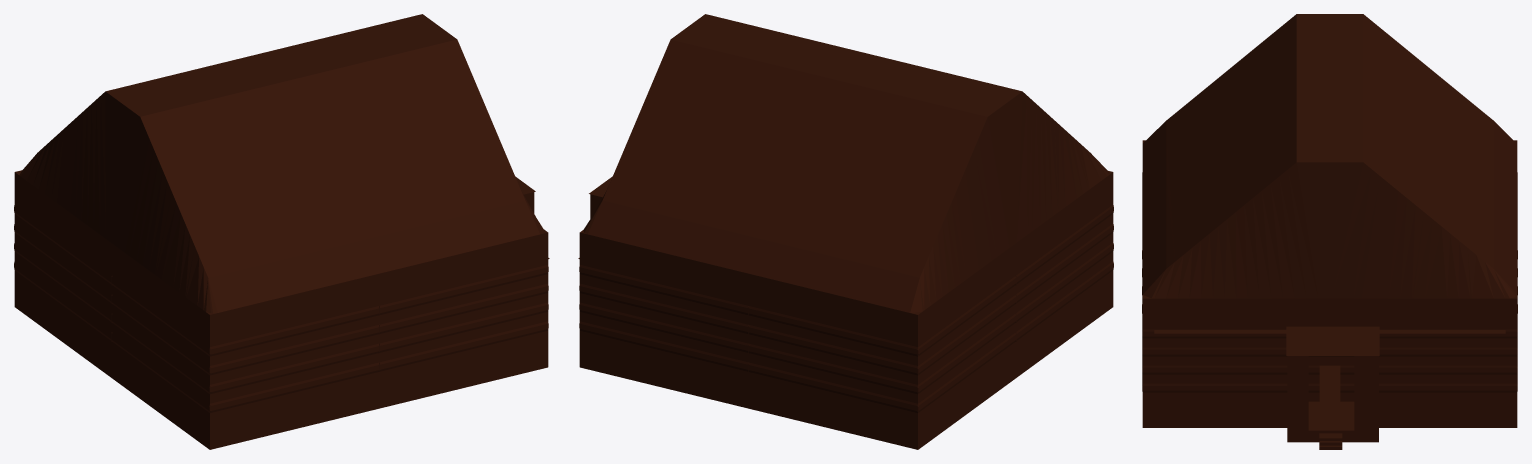
Rendered from SpawnHouse.obj.
3 views of the same model, side by side, from view 1: azimuth 30°, elevation 25°; view 2: azimuth 150°, elevation 25°; view 3: azimuth 270°, elevation 25° (orthographic). The views are drawn at different scales.
Visible parts, largest first — view 1: Cube; view 2: Cube; view 3: Cube.
Part boxes in pixels (<box>): Cube: <box>14,14,549,449</box>; Cube: <box>578,14,1113,449</box>; Cube: <box>1142,14,1517,449</box>.
Bounding box in the file's own units: 42.22 × 26.3 × 34.39.
